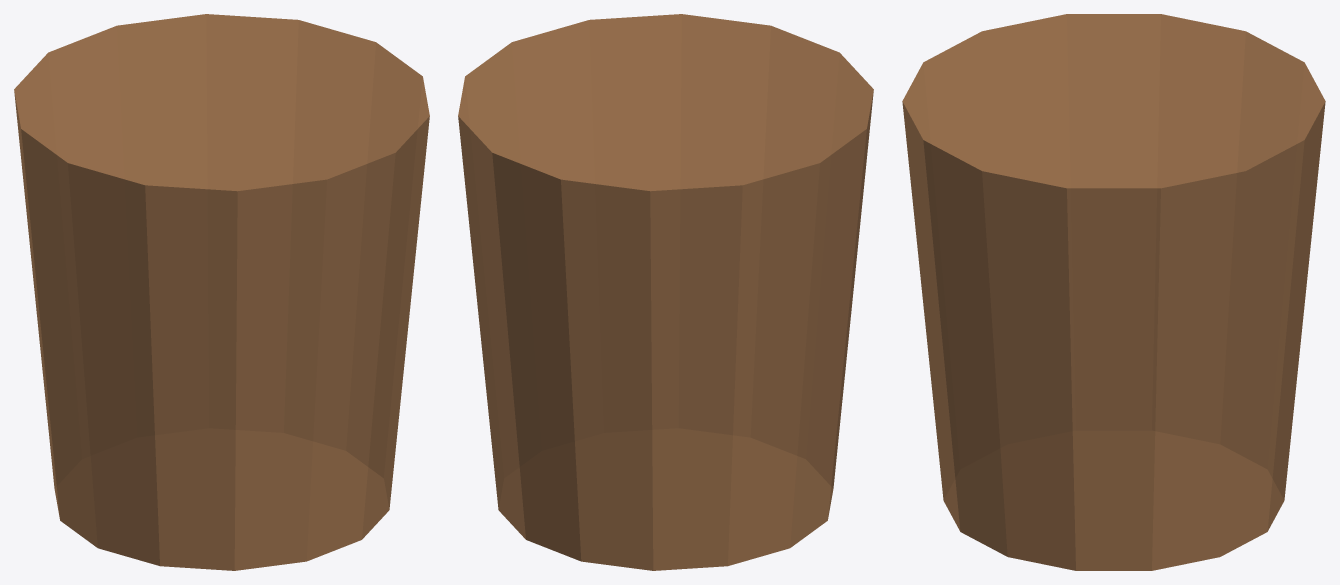
File: glass_food.glb
The picture shows the model from 3 angles, left to right: view 1: azimuth 30°, elevation 25°; view 2: azimuth 150°, elevation 25°; view 3: azimuth 270°, elevation 25°; orthographic projection.
Visible parts, largest first — view 1: GlassFood; view 2: GlassFood; view 3: GlassFood.
Boxes of the visible parts, x1,y1,x2,y2 form: GlassFood: (14, 14, 429, 570); GlassFood: (458, 14, 873, 570); GlassFood: (902, 14, 1325, 570).
Size of the model in its own units: 0.0702 by 0.075 by 0.072.
